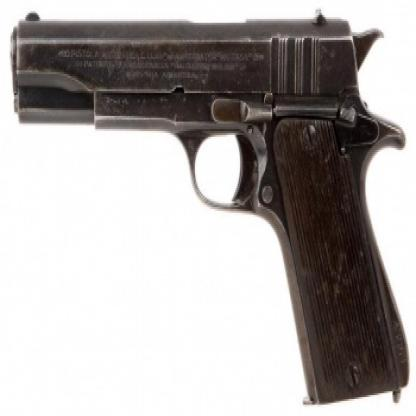Guns: (7, 4, 415, 414)
